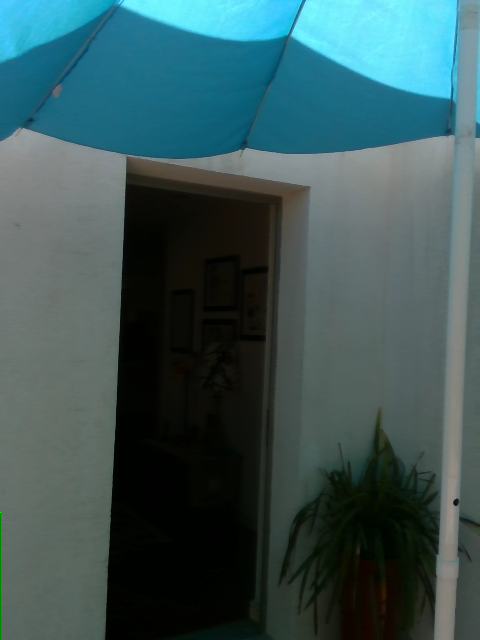open: (127, 158, 308, 634)
